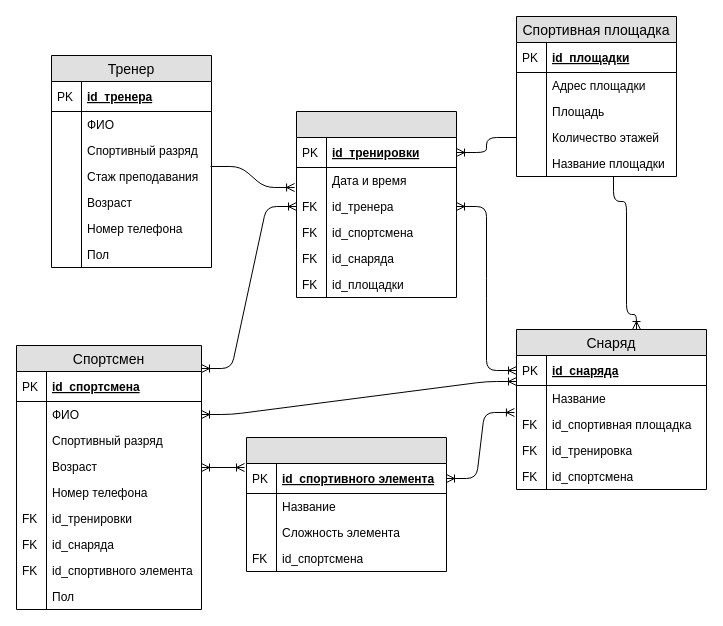
The diagram is 723 pixels wide and 626 high, and some of its shapes have lost their labels. The shapes that lost their labels are listed below. From the top down, each one's box as (x1, y1, x2, y2) in pixels, then its label:
(296, 110, 456, 298): Тренировка
(246, 436, 446, 572): Спортивный элемент
